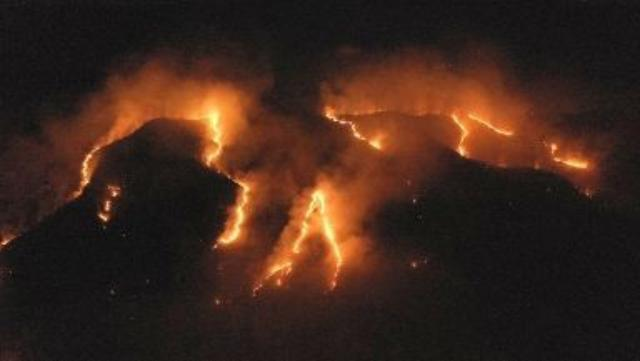fire: (193, 102, 259, 247), (266, 180, 348, 295), (446, 105, 522, 163), (321, 98, 381, 154), (545, 137, 591, 172), (68, 142, 92, 197), (98, 181, 120, 224)
